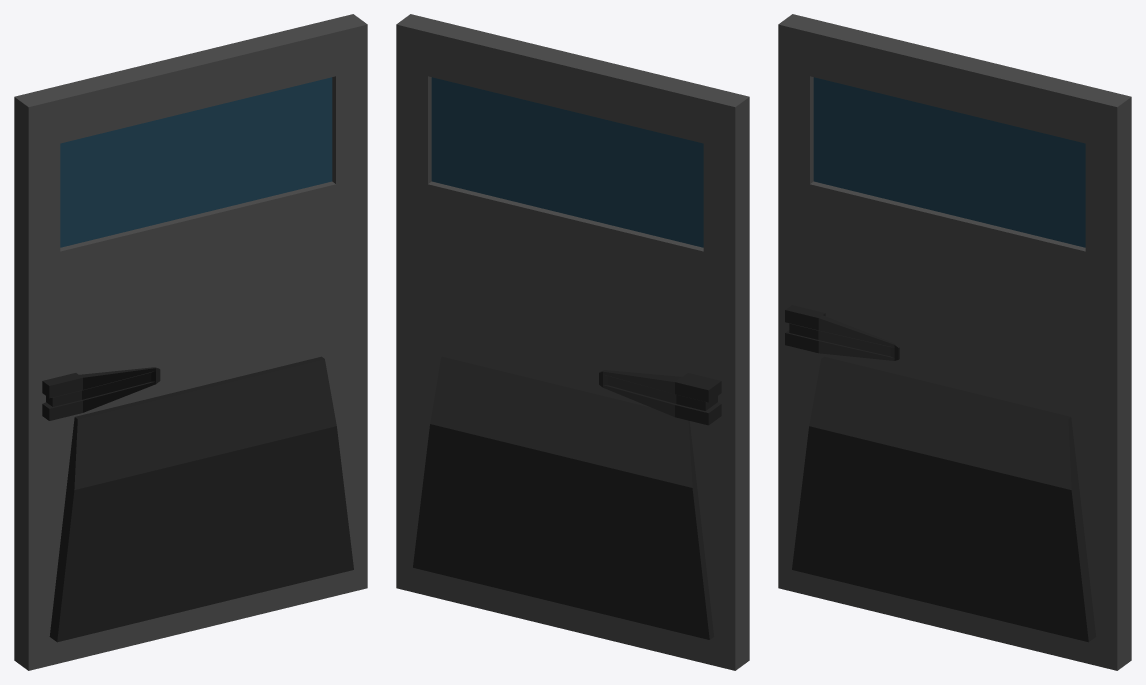
The model's file is SM_Door.FBX.
3 renders of one model, left to right at view 1: azimuth 30°, elevation 25°; view 2: azimuth 150°, elevation 25°; view 3: azimuth 330°, elevation 25°, orthographic.
Parts seen in each view (by area): view 1: Cube; view 2: Cube; view 3: Cube.
Boxes of the visible parts, <box> form: Cube: <box>14,14,367,670</box>; Cube: <box>396,14,749,670</box>; Cube: <box>778,14,1131,670</box>.
Size of the model in its own units: 1.7 by 2.7 by 0.3015.
